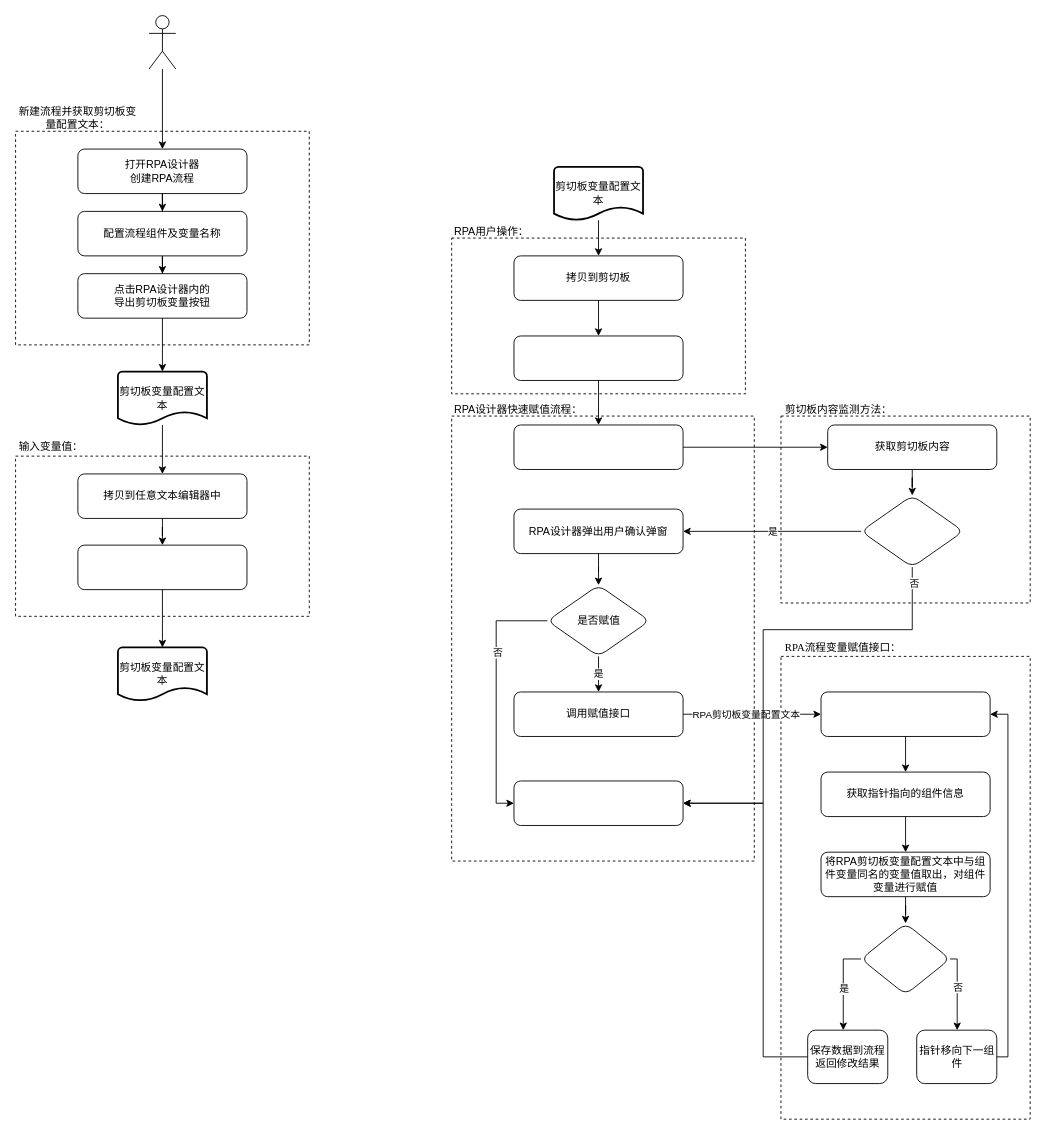
Some shapes in this 1056 by 1135 pixel diagram are drawn without their labels. Each missing label, with the box of its shape:
RPA用户: (148, 15, 176, 69)
手动填写变量值: (77, 544, 247, 590)
是否为数组内 最后一个组件: (860, 922, 950, 995)
第一行内容 是否为标识文本: (860, 495, 963, 567)
结束: (513, 780, 683, 825)
获取流程组件数组，创建指针指向数组内第一个组件: (820, 691, 990, 736)
调用剪切板内容监测方法: (513, 424, 683, 469)
进入RPA设计器流程编辑页面: (513, 335, 683, 380)
